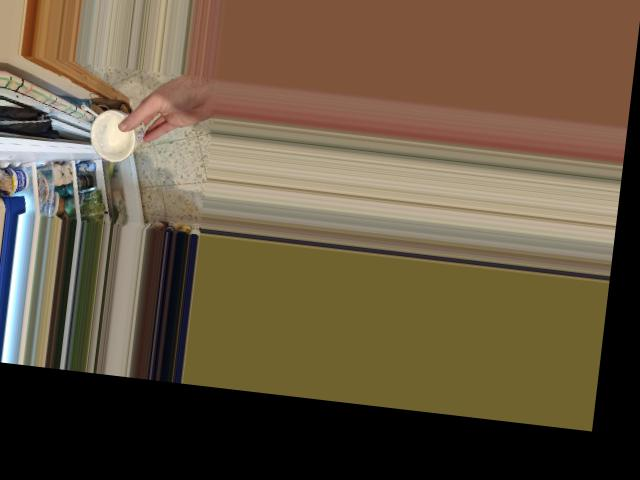cotage: (85, 103, 152, 159)
